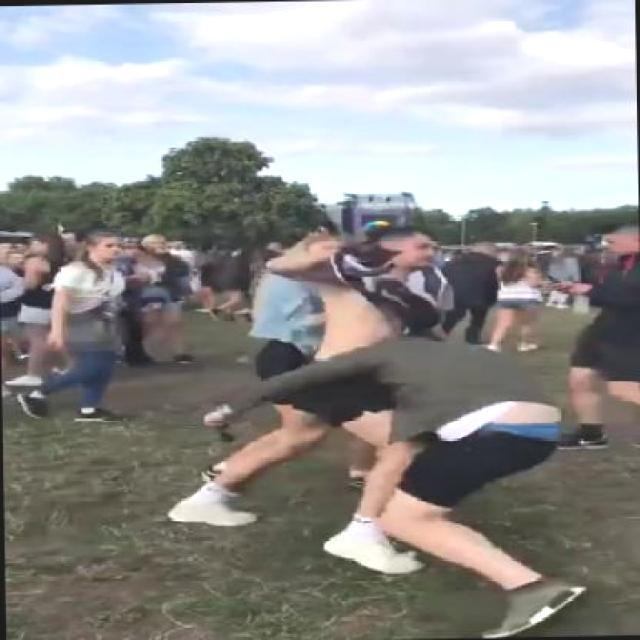fight: (264, 218, 574, 636)
